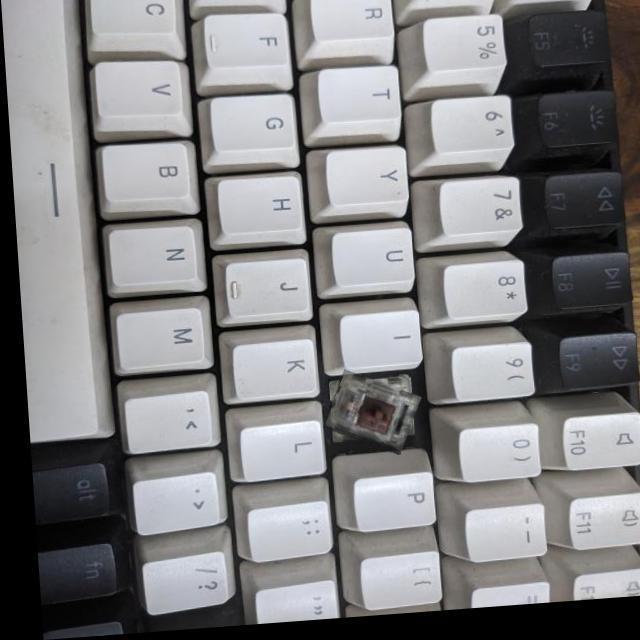key-switch: (317, 377, 412, 458)
